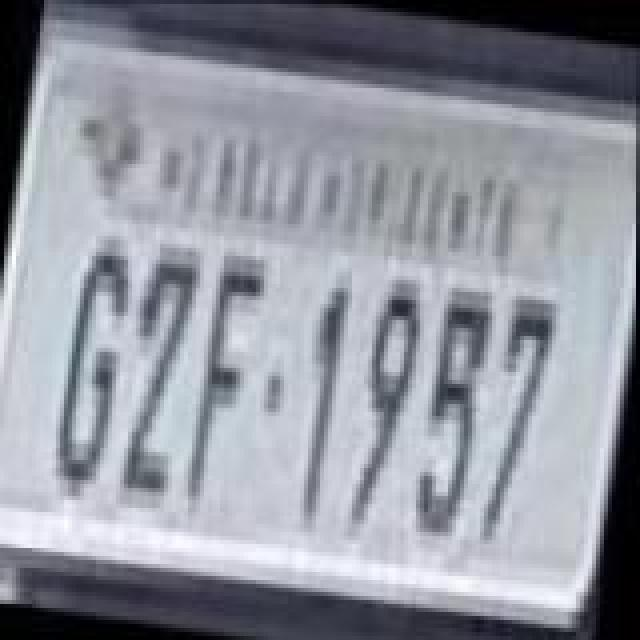1: (284, 258, 360, 530)
5: (406, 270, 494, 542)
7: (472, 288, 560, 552)
9: (342, 270, 430, 538)
F: (182, 238, 270, 510)
G: (44, 222, 136, 498)
Z: (108, 230, 208, 502)
